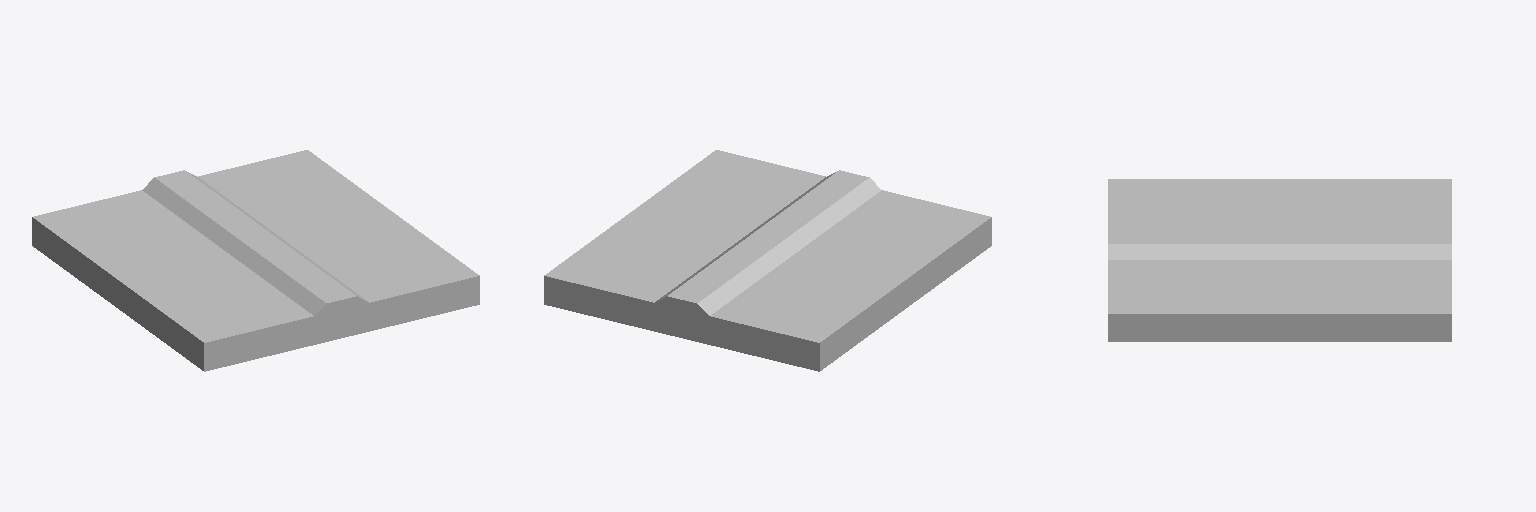
The model's file is kokudou.obj.
3 views of the same model, side by side, from view 1: azimuth 30°, elevation 25°; view 2: azimuth 150°, elevation 25°; view 3: azimuth 270°, elevation 25° (orthographic).
Parts seen in each view (by area): view 1: Cube; view 2: Cube; view 3: Cube.
Boxes of the visible parts, box(x1,y1,x2,y2) form: Cube: box(32, 150, 479, 371); Cube: box(544, 150, 991, 371); Cube: box(1108, 179, 1451, 341).
Size of the model in its own units: 10 by 1.33 by 10.83.